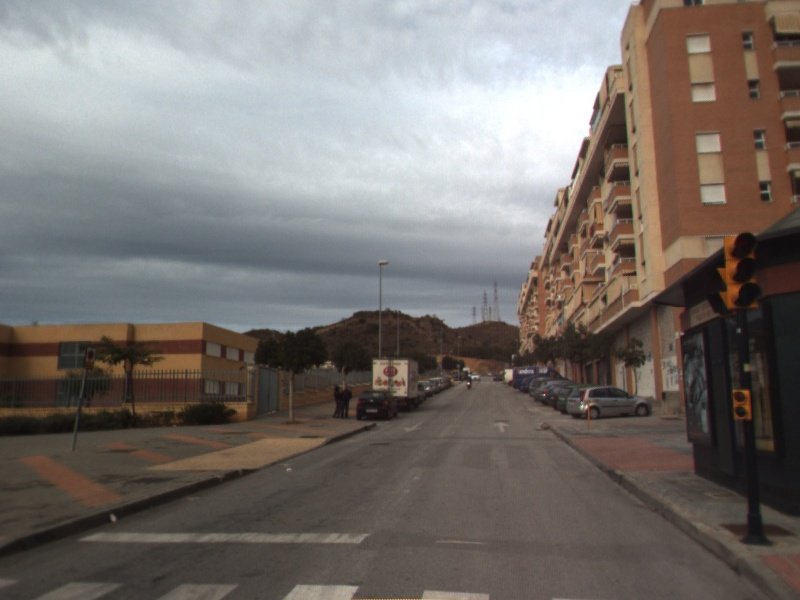STRAIGHT: (491, 419, 512, 434)
